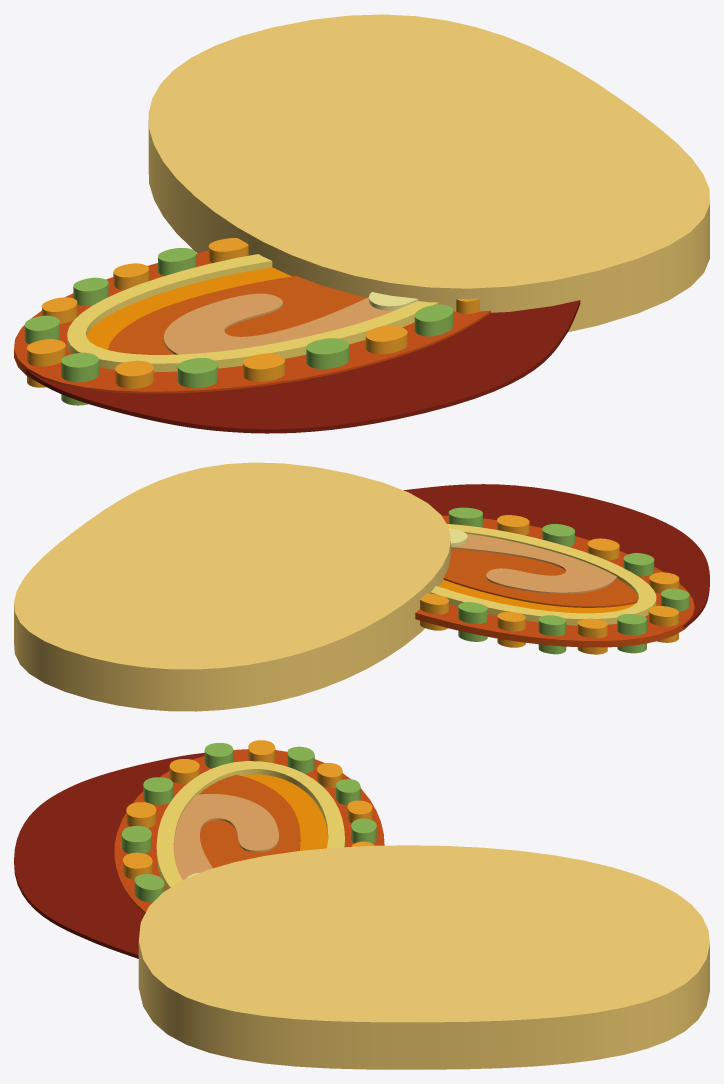
Rendered from emoji_u1fa94.glb.
3 renders of one model, top to bottom at view 1: azimuth 30°, elevation 25°; view 2: azimuth 150°, elevation 25°; view 3: azimuth 270°, elevation 25°, orthographic. The views are drawn at different scales.
Visible parts, largest first — view 1: emoji_u1fa94; view 2: emoji_u1fa94; view 3: emoji_u1fa94.
Boxes of the visible parts, box(x1,y1,x2,y2) form: emoji_u1fa94: box(14, 14, 709, 433); emoji_u1fa94: box(14, 462, 709, 711); emoji_u1fa94: box(14, 740, 709, 1069).
Size of the model in its own units: 0.0346 by 0.0026 by 0.0346.
